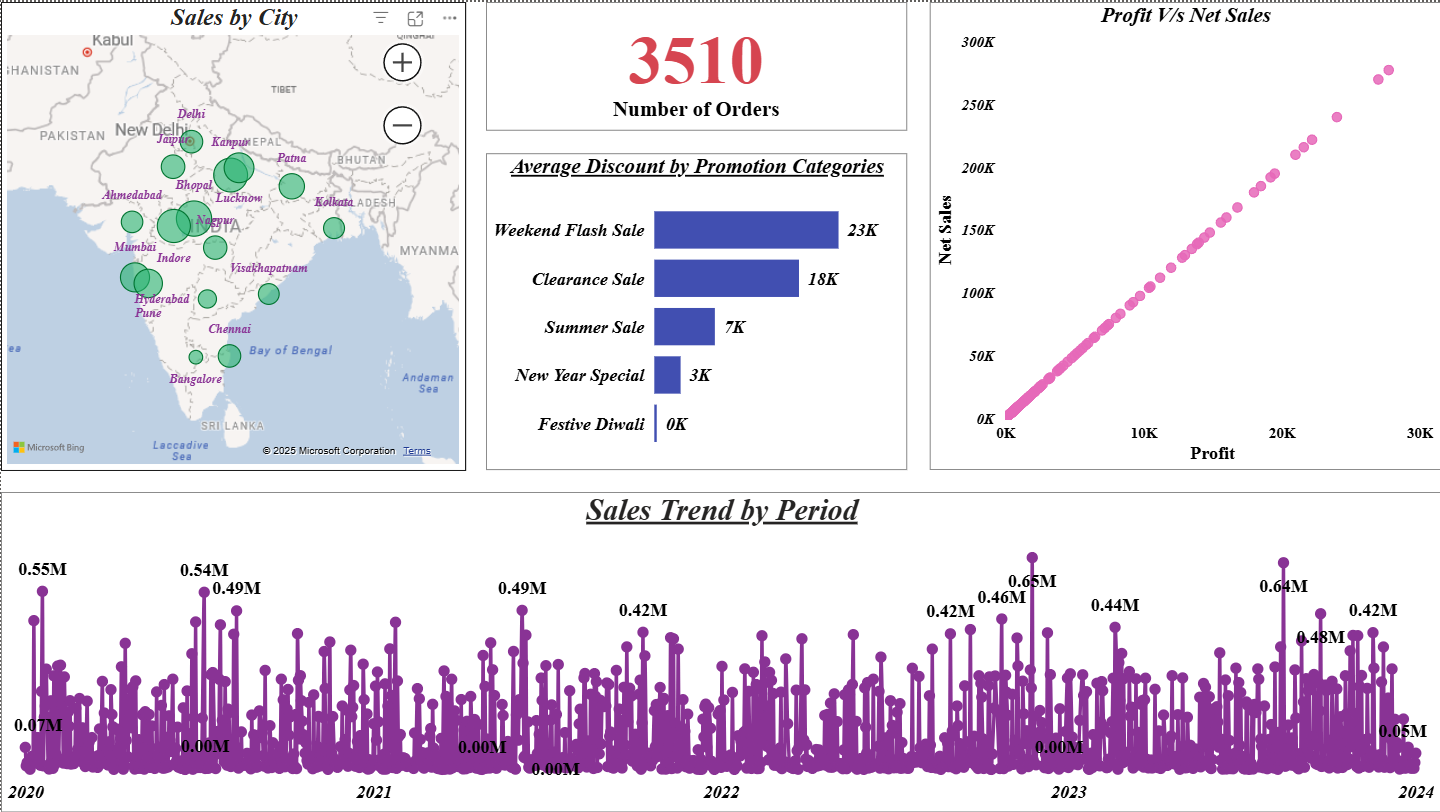

This screenshot's page, from the dashboard's own definition file:
{"tool":"powerbi","page":{"name":"Overview","canvas":[1280,720],"ordinal":0},"visuals":[{"type":"lineChart","title":"Sales Trend by Period","fields":{"Category":["Fact Table.Date (dd/mm/yyyy).Variation.Date Hierarchy.Year"],"Y":["Sum(Fact Table.Net Sales)"]},"box":[0,435,1280,285],"z":0},{"type":"scatterChart","title":"Profit V/s Net Sales","fields":{"X":["Fact Table.Profit"],"Y":["Fact Table.Net Sales"]},"box":[826,0,454,416],"z":1000},{"type":"barChart","title":"Average Discount by Promotion Categories","fields":{"Y":["Avg(Fact Table.Discount Value)"],"Category":["Dim Promotion.Promotion Name"]},"box":[431.4,134.3,374.3,281.4],"z":2000},{"type":"map","title":"Sales by City","fields":{"Category":["Dim Customers.City"],"Size":["Sum(Fact Table.Net Sales)"]},"box":[0,0,413.3,416.7],"z":3000},{"type":"card","fields":{"Values":["Count(Fact Table.OrderID)"]},"box":[431.4,0,374.3,114.3],"z":4000}]}

Visuals, with their boxes in screenshot pixels (x1, y1, x2, y2), scaled from the page's 1280x720 canvas onto the 1440x812 screenshot:
"Sales Trend by Period" lineChart: crop(0, 491, 1439, 811)
"Profit V/s Net Sales" scatterChart: crop(929, 0, 1439, 469)
"Average Discount by Promotion Categories" barChart: crop(485, 151, 906, 469)
"Sales by City" map: crop(0, 0, 465, 470)
card - Count(Fact Table.OrderID): crop(485, 0, 906, 129)
